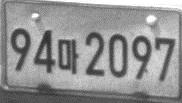0: (108, 33, 128, 77)
2: (84, 31, 107, 77)
4: (33, 30, 56, 74)
7: (153, 35, 176, 81)
9: (131, 35, 152, 80), (10, 28, 31, 71)
마: (57, 38, 80, 74)
